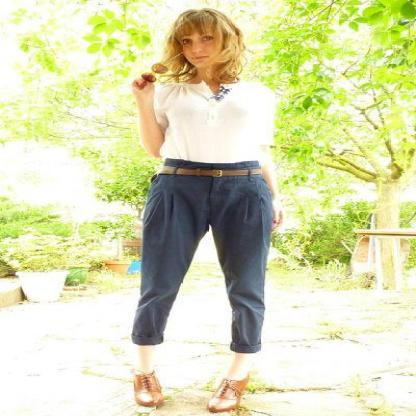pants: (131, 175, 279, 353)
shirt: (162, 78, 282, 166)
shoe: (129, 374, 251, 416)
